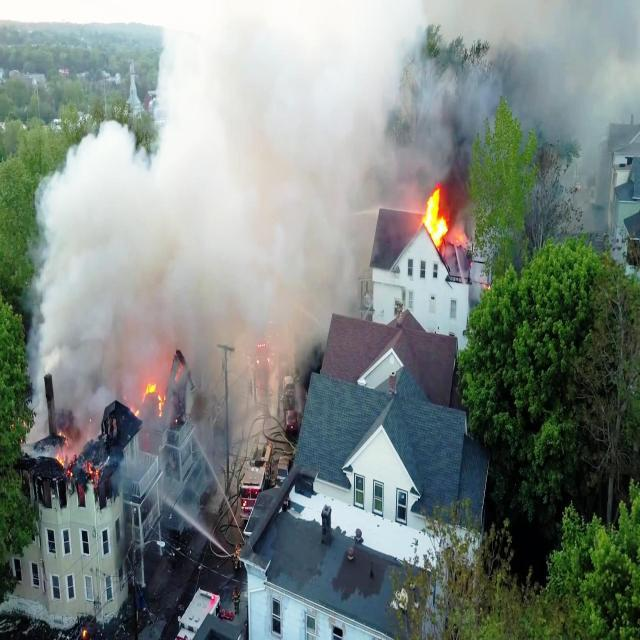Fire: (22, 401, 114, 494), (120, 366, 180, 448), (422, 182, 470, 264)
Smoke: (28, 0, 420, 361), (421, 0, 640, 181)
